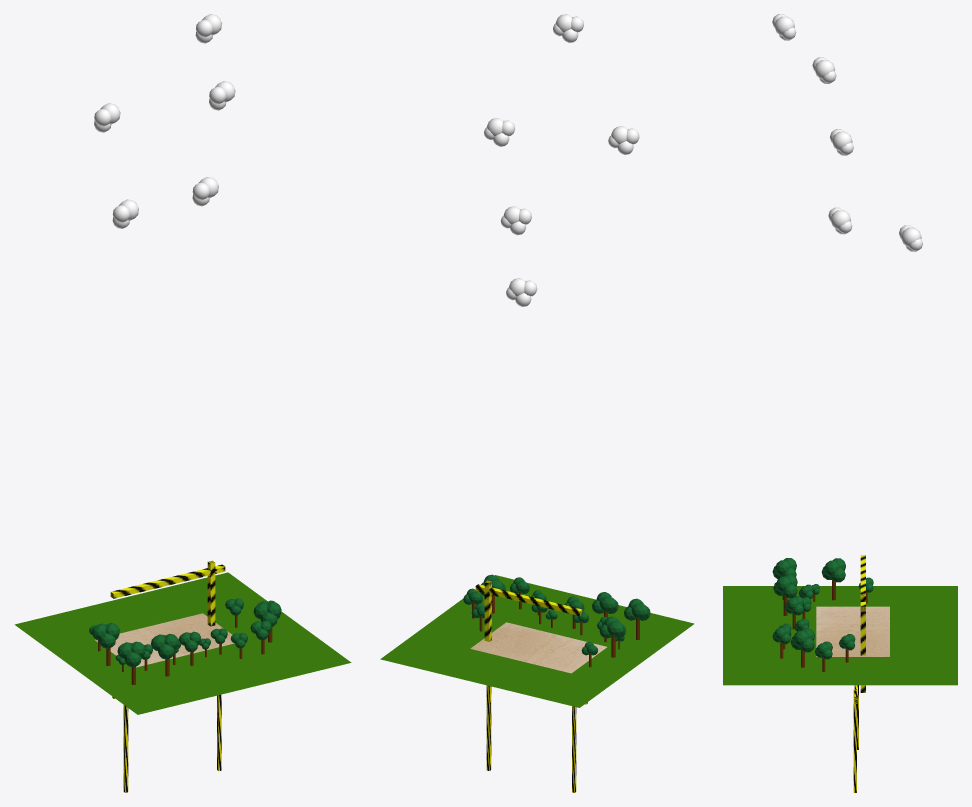
3 views of the same model, side by side, from view 1: azimuth 30°, elevation 25°; view 2: azimuth 150°, elevation 25°; view 3: azimuth 270°, elevation 25° (orthographic). The views are drawn at different scales.
Visible parts, largest first — view 1: Floor, sand, crane2, crane, tree.004, tree.010, tree.005; view 2: Floor, sand, crane2, crane, cloud.003, cloud.004, cloud, cloud.002, cloud.001; view 3: Floor, sand, crane2, crane, tree.010, tree.005, tree.001, cloud.002, cloud.004, cloud, cloud.001, cloud.003.
Part boxes in pixels (box(x1,y1,x2,y2)): Floor: box(14, 572, 351, 714); sand: box(95, 613, 234, 667); crane2: box(110, 560, 225, 626); crane: box(112, 694, 221, 792); tree.004: box(117, 641, 145, 684); tree.010: box(92, 623, 119, 665); tree.005: box(151, 633, 178, 676); Floor: box(380, 575, 694, 707); sand: box(470, 622, 606, 673); crane2: box(475, 580, 582, 641); crane: box(486, 685, 587, 792); cloud.003: box(506, 278, 537, 306); cloud.004: box(484, 118, 515, 146); cloud: box(553, 14, 583, 42); cloud.002: box(500, 206, 531, 235); cloud.001: box(608, 126, 639, 154); Floor: box(723, 586, 957, 685); sand: box(816, 606, 889, 656); crane2: box(860, 555, 865, 692); crane: box(853, 685, 858, 792); tree.010: box(821, 558, 845, 600); tree.005: box(773, 574, 797, 615); tree.001: box(790, 628, 814, 667); cloud.002: box(828, 207, 852, 234); cloud.004: box(829, 129, 853, 155); cloud: box(772, 14, 796, 40); cloud.001: box(812, 57, 836, 83); cloud.003: box(899, 225, 922, 251).
Size of the model in its own units: 44 by 156 by 44.
11 materials, 11 textured.
